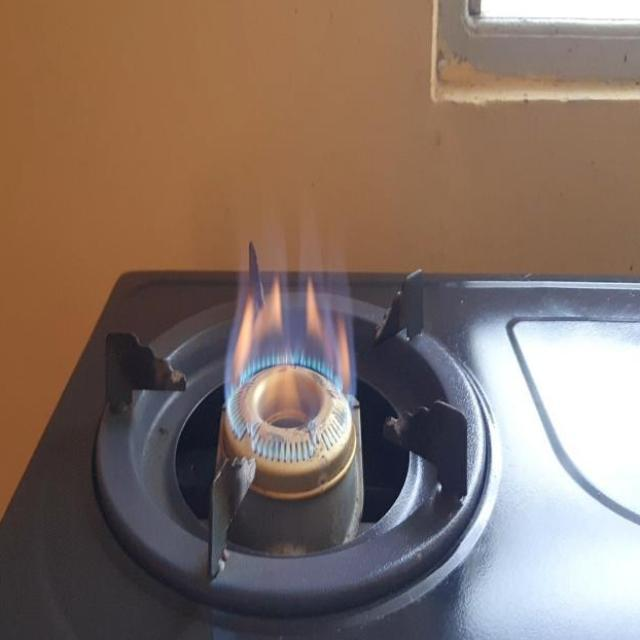smoke: (222, 200, 361, 484)
